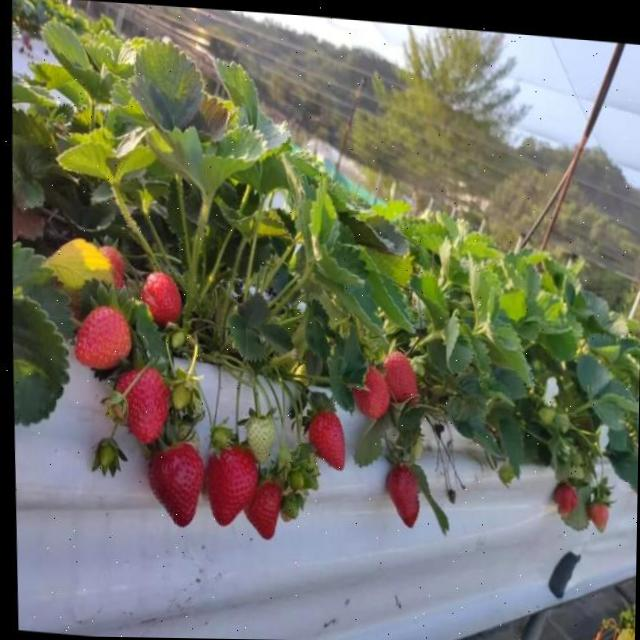ripe: (136, 436, 204, 530), (196, 436, 260, 528), (110, 364, 172, 446), (68, 300, 130, 372), (300, 400, 346, 470), (379, 456, 421, 527), (238, 473, 280, 543), (135, 267, 185, 325), (346, 353, 389, 420), (376, 345, 422, 403), (96, 244, 128, 288), (546, 472, 576, 514)
